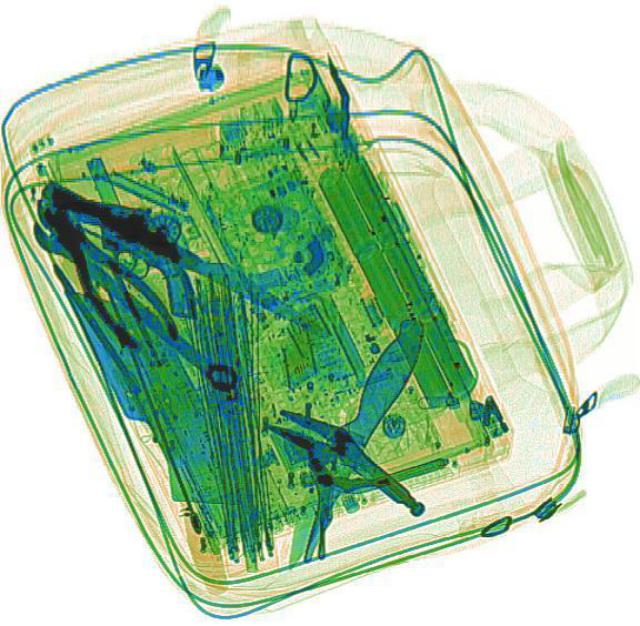Gun: (20, 183, 220, 317)
Knife: (38, 175, 330, 335), (270, 312, 432, 570)
Pliers: (21, 190, 186, 362)
Wrench: (24, 206, 248, 398)
